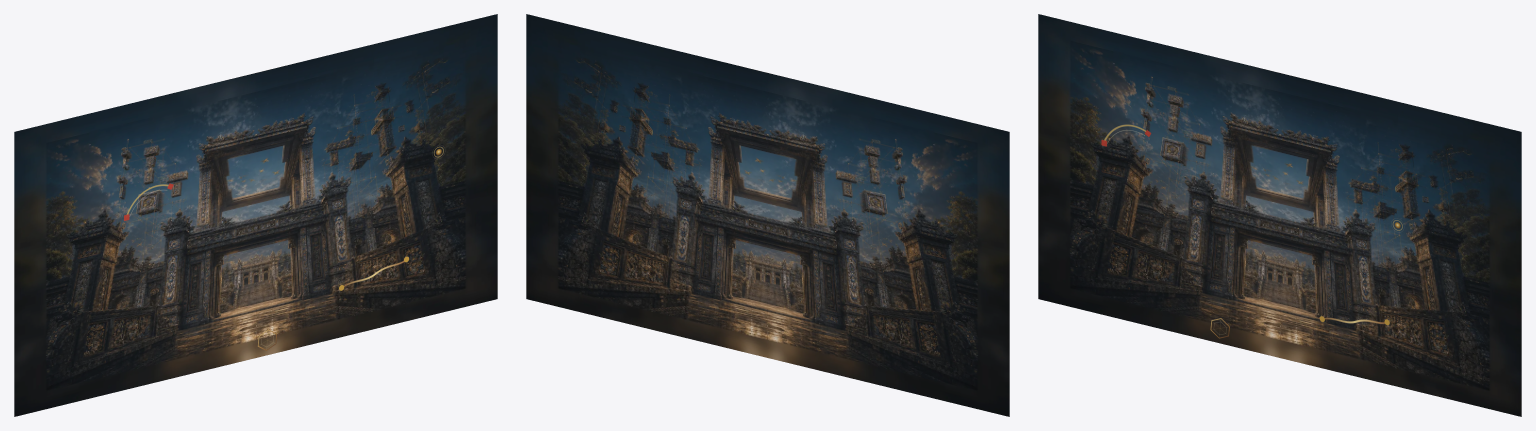
File: Operations_bg_diffuse-optimized-fa45455ec8.glb
3 views of the same model, side by side, from view 1: azimuth 30°, elevation 25°; view 2: azimuth 150°, elevation 25°; view 3: azimuth 330°, elevation 25° (orthographic).
Visible parts, largest first — view 1: Vietfolk_operations_background; view 2: Vietfolk_operations_background; view 3: Vietfolk_operations_background.
Boxes of the visible parts, <box> form: Vietfolk_operations_background: <box>14,14,497,416</box>; Vietfolk_operations_background: <box>526,14,1009,416</box>; Vietfolk_operations_background: <box>1038,14,1521,416</box>.
Size of the model in its own units: 3.6 by 2.03 by 0.46.
5 materials, 5 textured.
